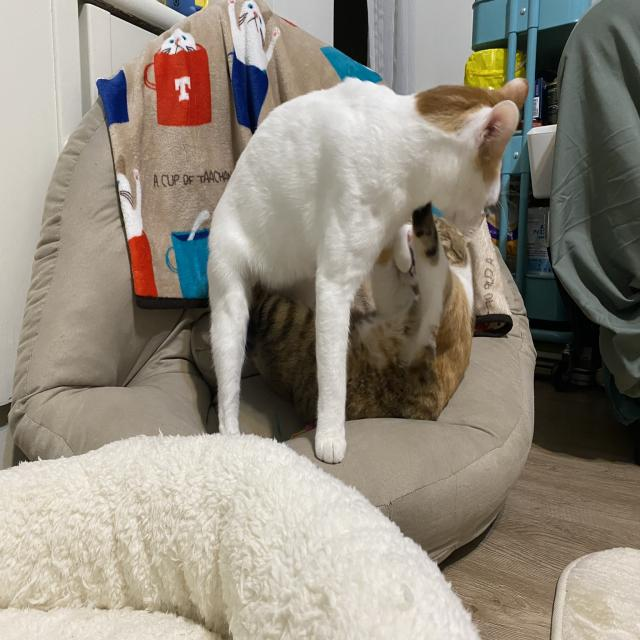cat1: (216, 66, 527, 453)
cat2: (191, 205, 479, 422)
